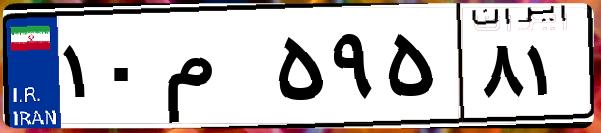0: (110, 28, 158, 98)
1: (57, 26, 110, 100), (525, 38, 570, 115)
5: (270, 28, 330, 110), (385, 28, 445, 110)
8: (475, 38, 525, 113)
9: (330, 28, 385, 110)
م: (158, 20, 270, 120)
